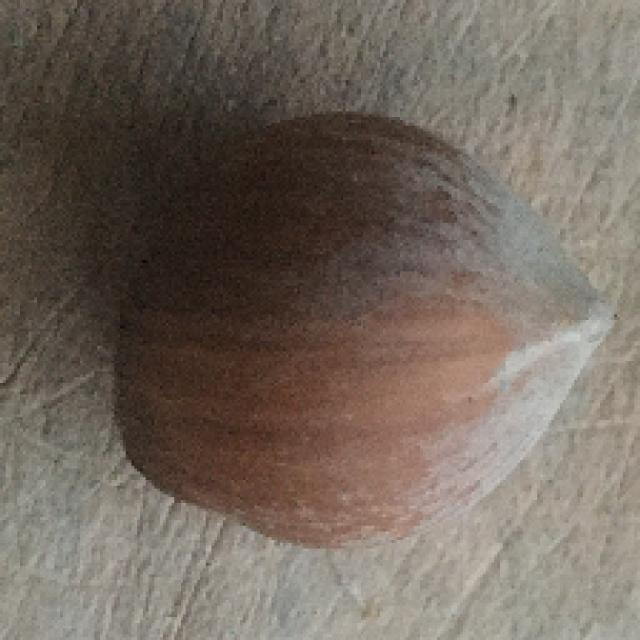qualityHazelnut: (107, 106, 621, 551)
